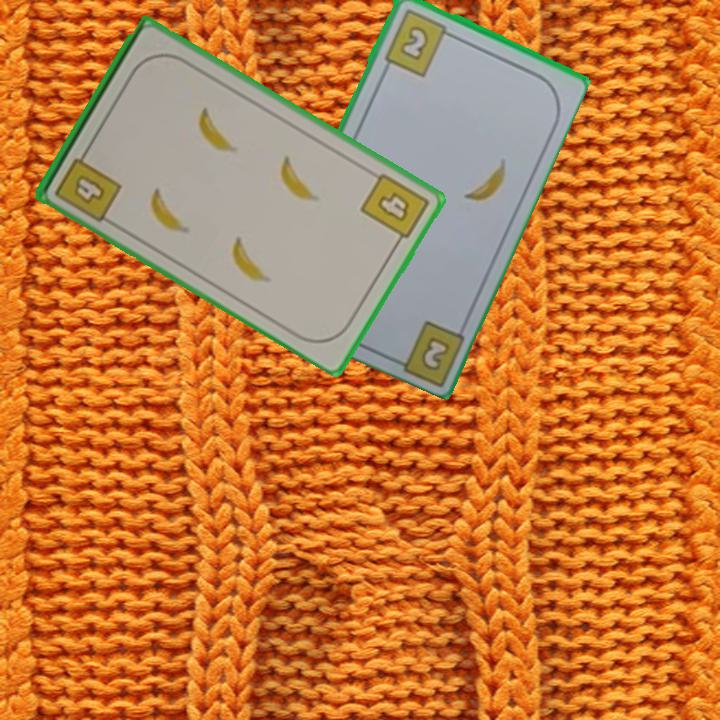2b: (380, 5, 457, 79), (417, 332, 453, 374)
4b: (357, 169, 432, 250), (51, 144, 125, 225)
